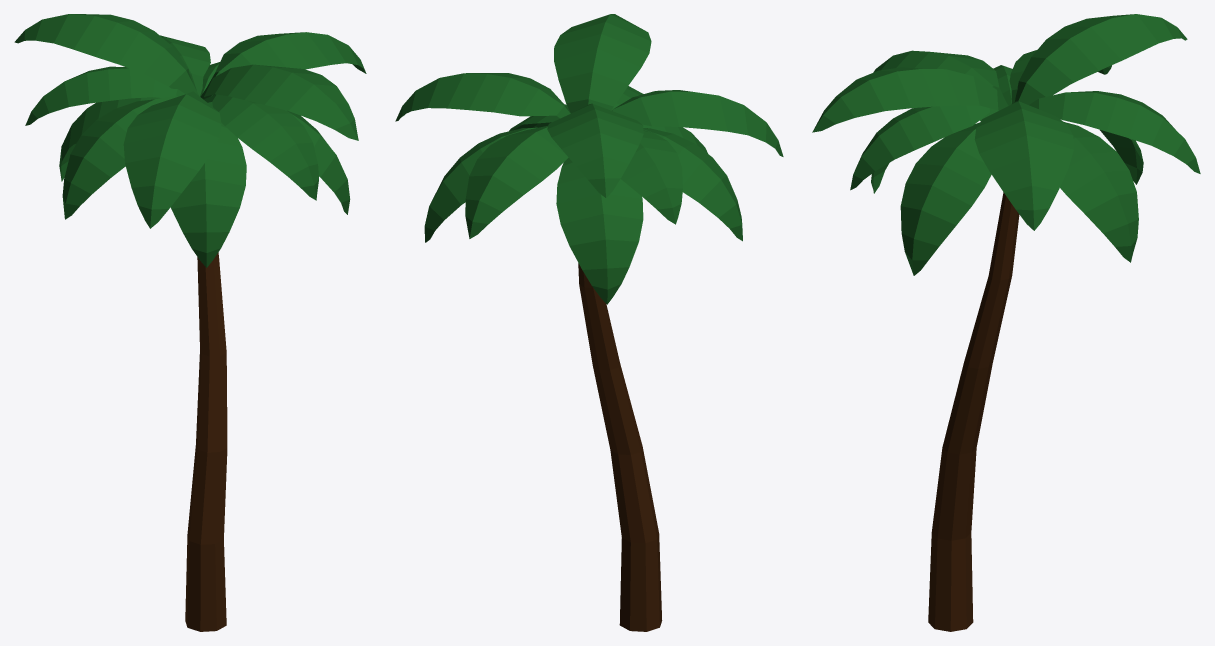
File: palm.FBX
The picture shows the model from 3 angles, left to right: view 1: azimuth 30°, elevation 25°; view 2: azimuth 150°, elevation 25°; view 3: azimuth 270°, elevation 25°; orthographic projection. The views are drawn at different scales.
Visible parts, largest first — view 1: Palm-tree; view 2: Palm-tree; view 3: Palm-tree.
Boxes of the visible parts, x1,y1,x2,y2 form: Palm-tree: (14, 14, 366, 631); Palm-tree: (395, 14, 783, 631); Palm-tree: (812, 14, 1200, 631).
Bounding box in the file's own units: 324 × 324 × 540.
